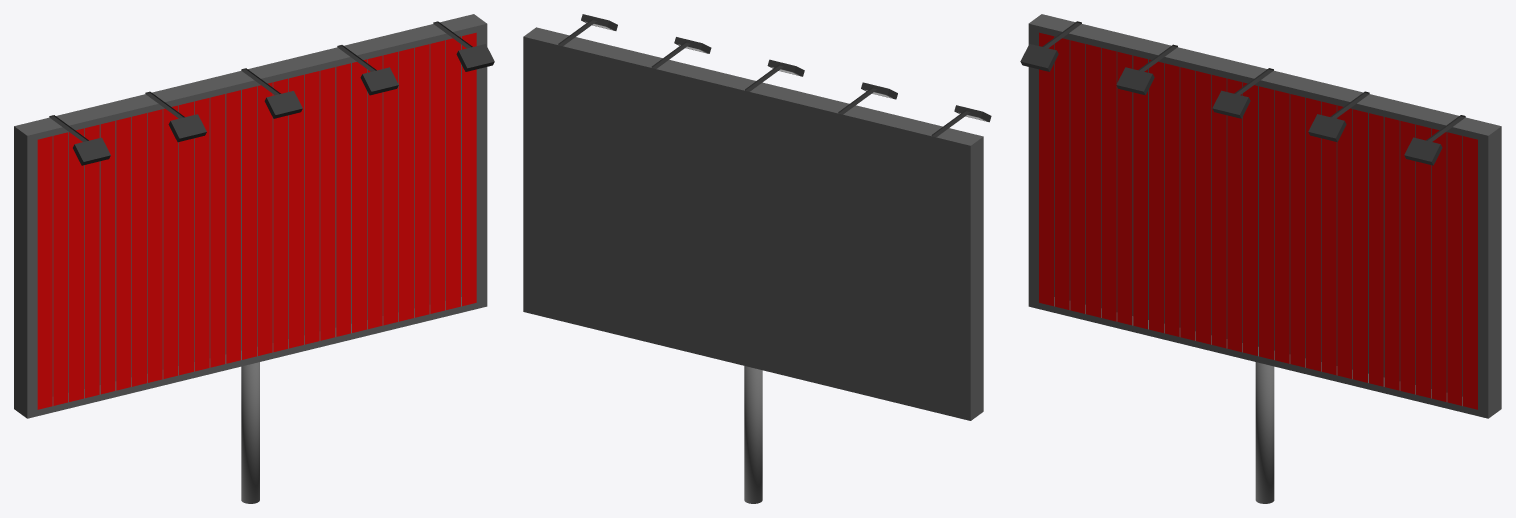
The model's file is Rotating Billboard.fbx.
The picture shows the model from 3 angles, left to right: view 1: azimuth 30°, elevation 25°; view 2: azimuth 150°, elevation 25°; view 3: azimuth 330°, elevation 25°; orthographic projection. The views are drawn at different scales.
Parts seen in each view (by area): view 1: Box, Lights, AdvertisementPart.005, AdvertisementPart.000, AdvertisementPart.011, AdvertisementPart.018, AdvertisementPart.024, AdvertisementPart.007, AdvertisementPart.001, AdvertisementPart.017, AdvertisementPart.025, AdvertisementPart.014 (+19 smaller); view 2: Box, Lights, Pole; view 3: Box, Lights, AdvertisementPart.004, AdvertisementPart.009, AdvertisementPart.015, AdvertisementPart.022, AdvertisementPart.002, AdvertisementPart.026, AdvertisementPart.008, AdvertisementPart.016, AdvertisementPart.001, AdvertisementPart.023 (+19 smaller).
Boxes of the visible parts, x1=… form: Box: x1=14, y1=14, x2=487, y2=418; Lights: x1=49, y1=21, x2=494, y2=165; AdvertisementPart.005: x1=116, y1=117, x2=131, y2=390; AdvertisementPart.000: x1=37, y1=136, x2=52, y2=409; AdvertisementPart.011: x1=210, y1=94, x2=225, y2=367; AdvertisementPart.018: x1=320, y1=67, x2=335, y2=340; AdvertisementPart.024: x1=414, y1=44, x2=429, y2=317; AdvertisementPart.007: x1=147, y1=109, x2=162, y2=382; AdvertisementPart.001: x1=53, y1=132, x2=68, y2=405; AdvertisementPart.017: x1=304, y1=71, x2=319, y2=344; AdvertisementPart.025: x1=430, y1=40, x2=445, y2=313; AdvertisementPart.014: x1=257, y1=82, x2=272, y2=355; Box: x1=523, y1=27, x2=983, y2=420; Lights: x1=558, y1=14, x2=991, y2=137; Pole: x1=744, y1=366, x2=762, y2=503; Box: x1=1028, y1=14, x2=1501, y2=418; Lights: x1=1020, y1=21, x2=1465, y2=165; AdvertisementPart.004: x1=1101, y1=48, x2=1116, y2=321; AdvertisementPart.009: x1=1180, y1=67, x2=1195, y2=340; AdvertisementPart.015: x1=1274, y1=90, x2=1289, y2=363; AdvertisementPart.022: x1=1384, y1=117, x2=1399, y2=390; AdvertisementPart.002: x1=1070, y1=40, x2=1085, y2=313; AdvertisementPart.026: x1=1447, y1=132, x2=1462, y2=405; AdvertisementPart.008: x1=1164, y1=63, x2=1179, y2=336; AdvertisementPart.016: x1=1290, y1=94, x2=1305, y2=367; AdvertisementPart.001: x1=1054, y1=36, x2=1069, y2=309; AdvertisementPart.023: x1=1400, y1=121, x2=1415, y2=394.
Bounding box in the file's own units: 6.8 × 6.05 × 1.16.
